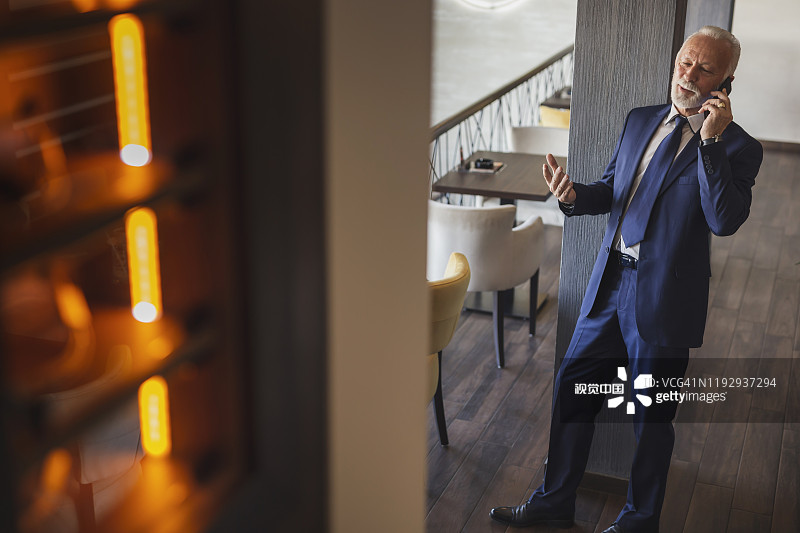calling: (696, 78, 741, 147)
no-phone: (534, 142, 583, 216)
